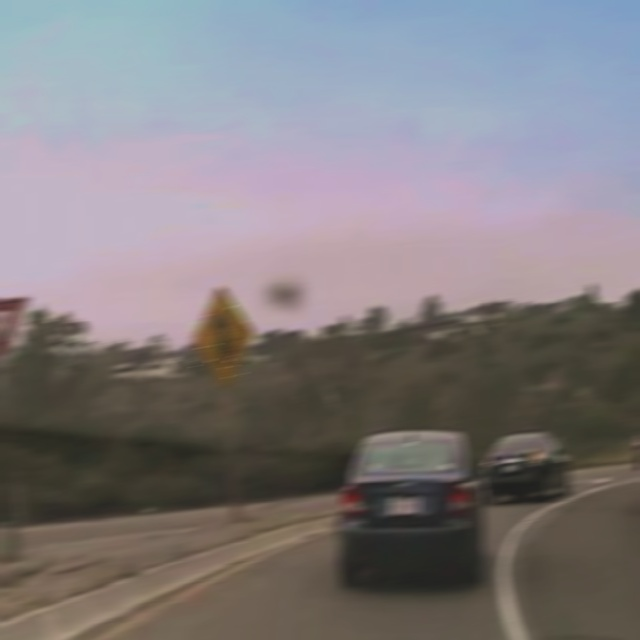merge: (191, 285, 254, 386)
